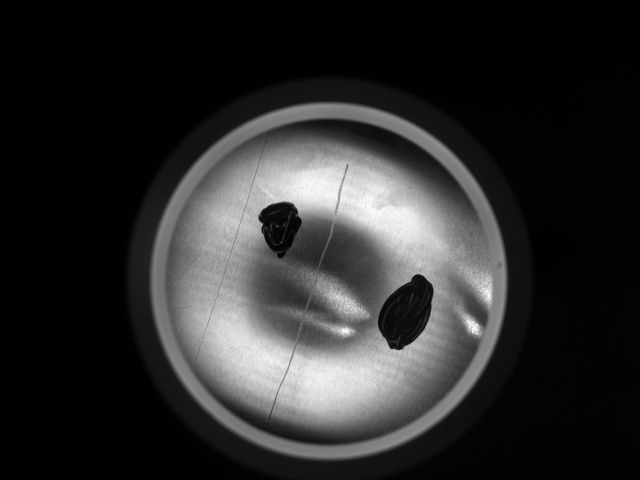ca_shang: (266, 159, 351, 420), (196, 132, 271, 365)
zang_wu: (375, 272, 436, 352), (258, 198, 305, 261)
